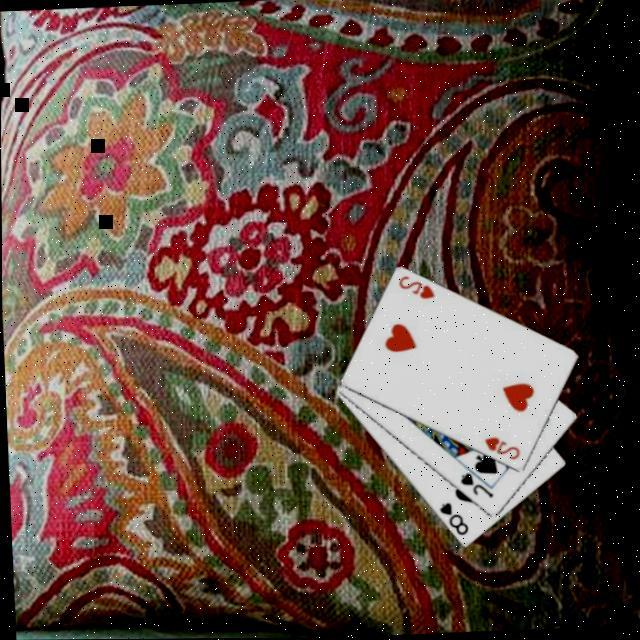2H: (396, 271, 439, 302), (482, 432, 523, 463)
8S: (436, 499, 471, 538)
JS: (458, 468, 497, 501)
